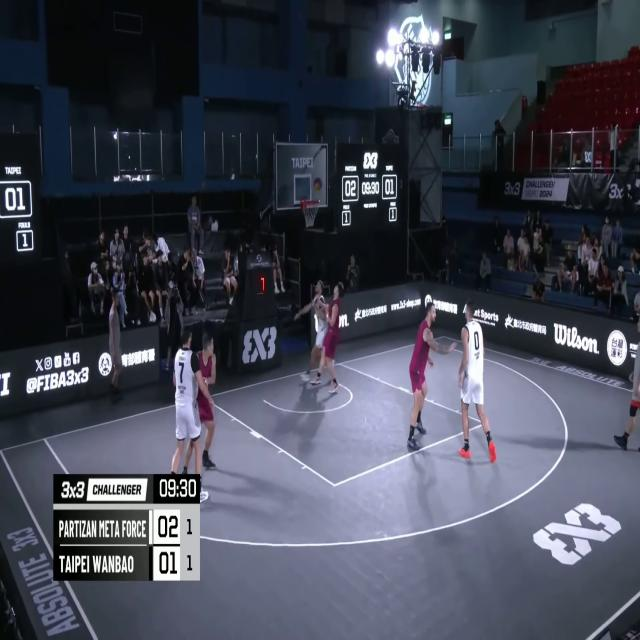ball: (314, 175, 324, 194)
hoop: (300, 197, 322, 226)
player: (409, 302, 455, 453), (457, 293, 494, 473), (183, 330, 221, 486), (171, 329, 208, 478), (308, 279, 344, 399), (296, 281, 333, 386)
